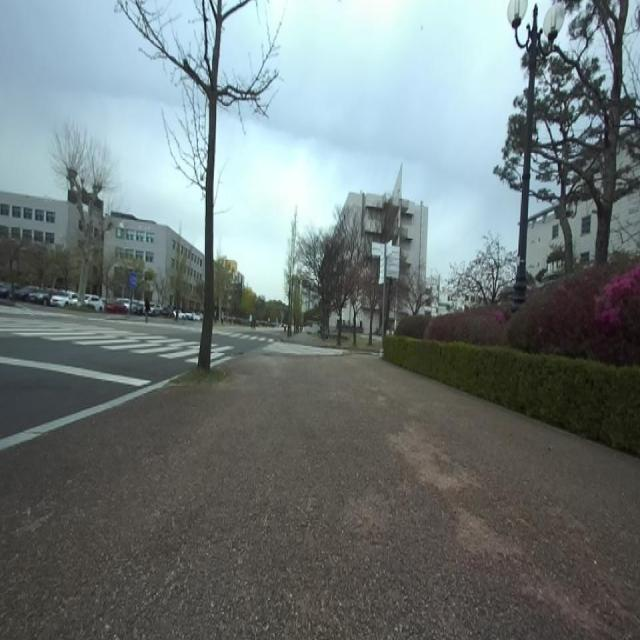sidewalk: (0, 355, 640, 638), (0, 379, 170, 451)
